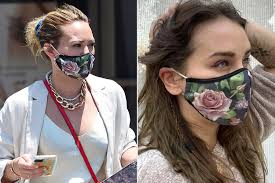mask: (184, 68, 253, 124), (54, 52, 95, 78)
